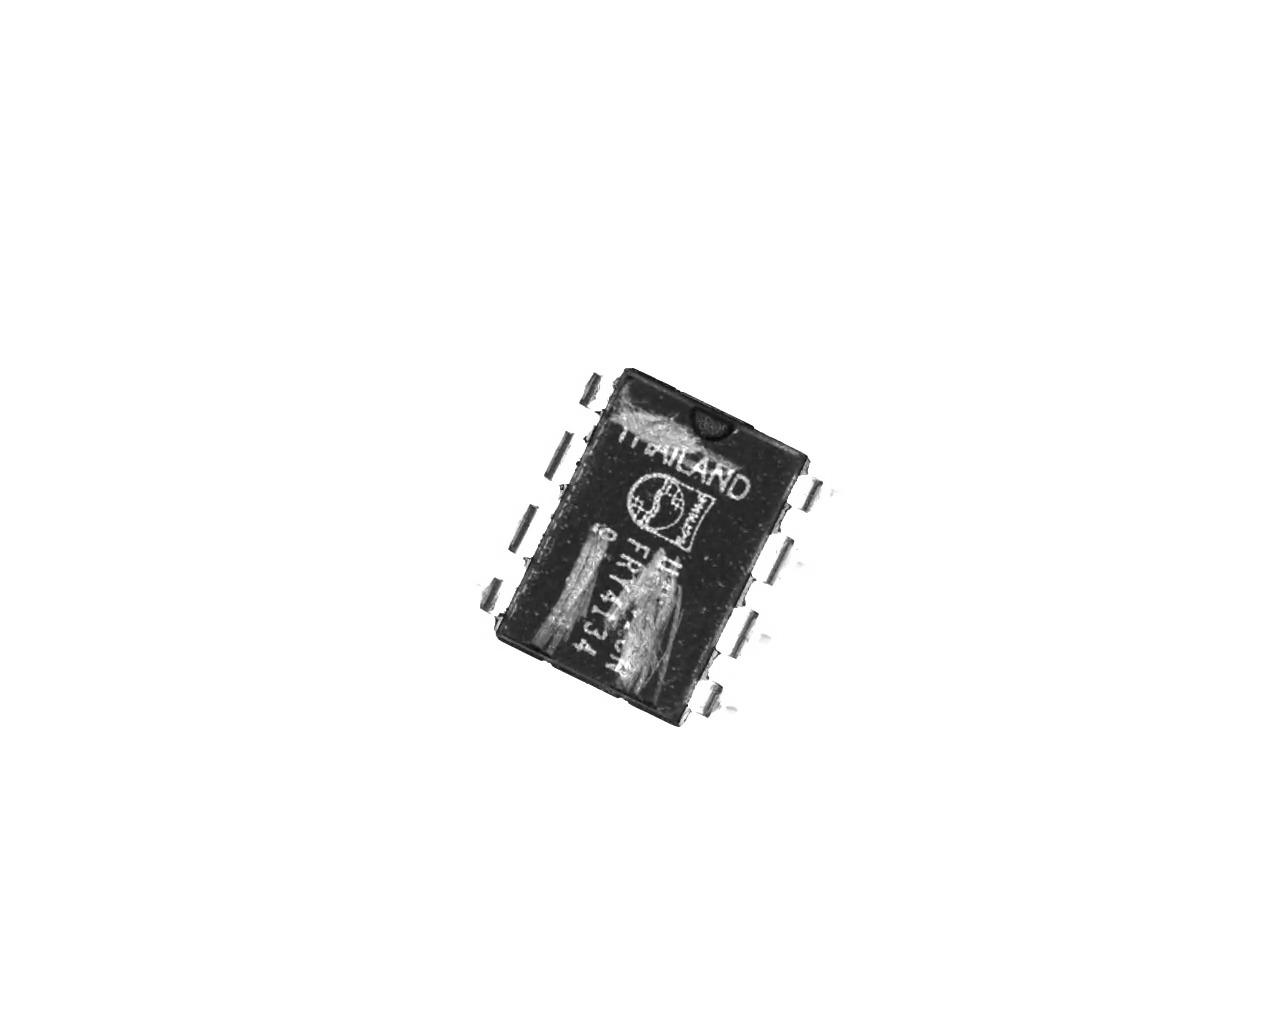Leg: (743, 525, 810, 592), (716, 587, 773, 666), (490, 491, 555, 556), (539, 423, 591, 497), (675, 669, 740, 724), (784, 463, 843, 518), (463, 572, 520, 623), (575, 360, 625, 419)
